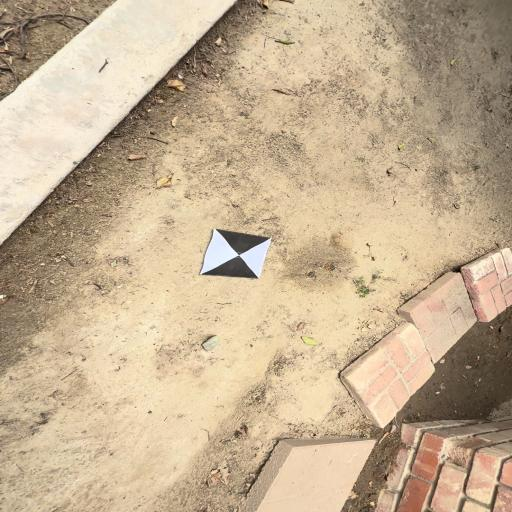target: (200, 229, 272, 278)
